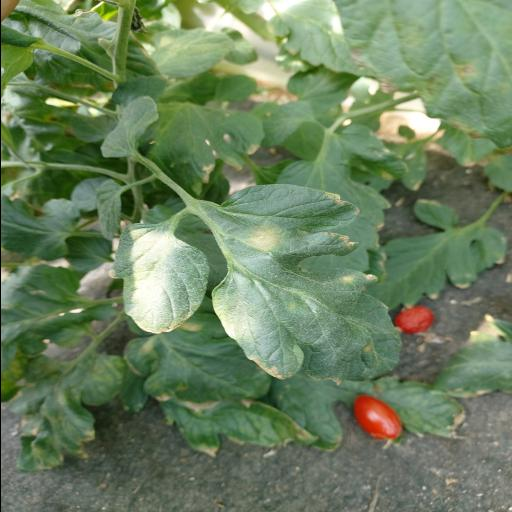Leaf Mold: (209, 184, 406, 380)
